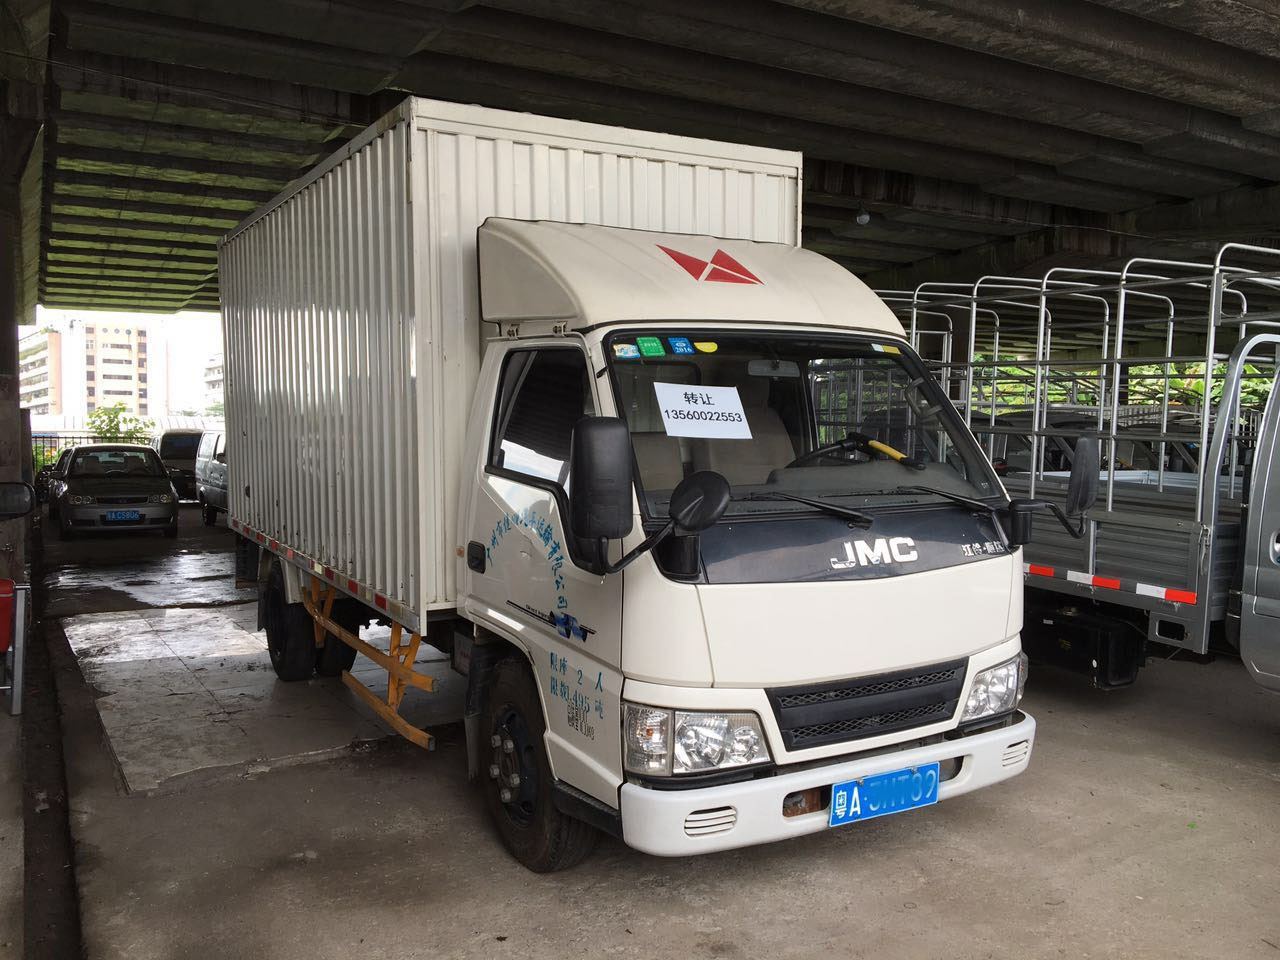truck: (181, 96, 1066, 910)
